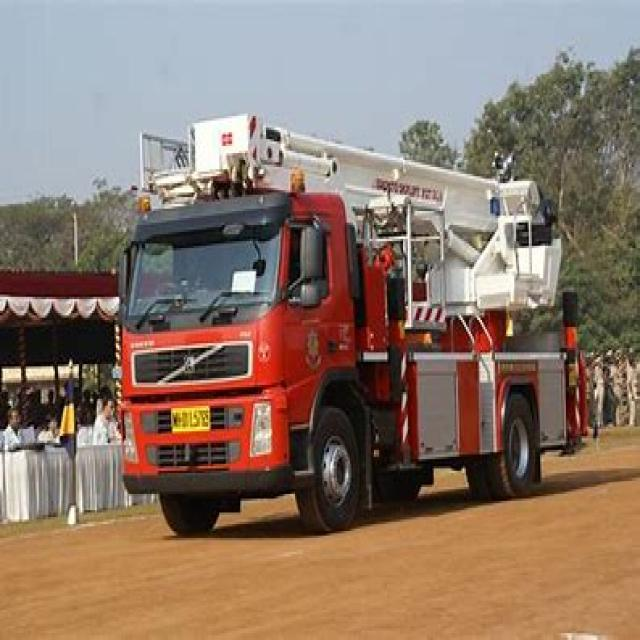Fire-engine: (115, 111, 590, 536)
